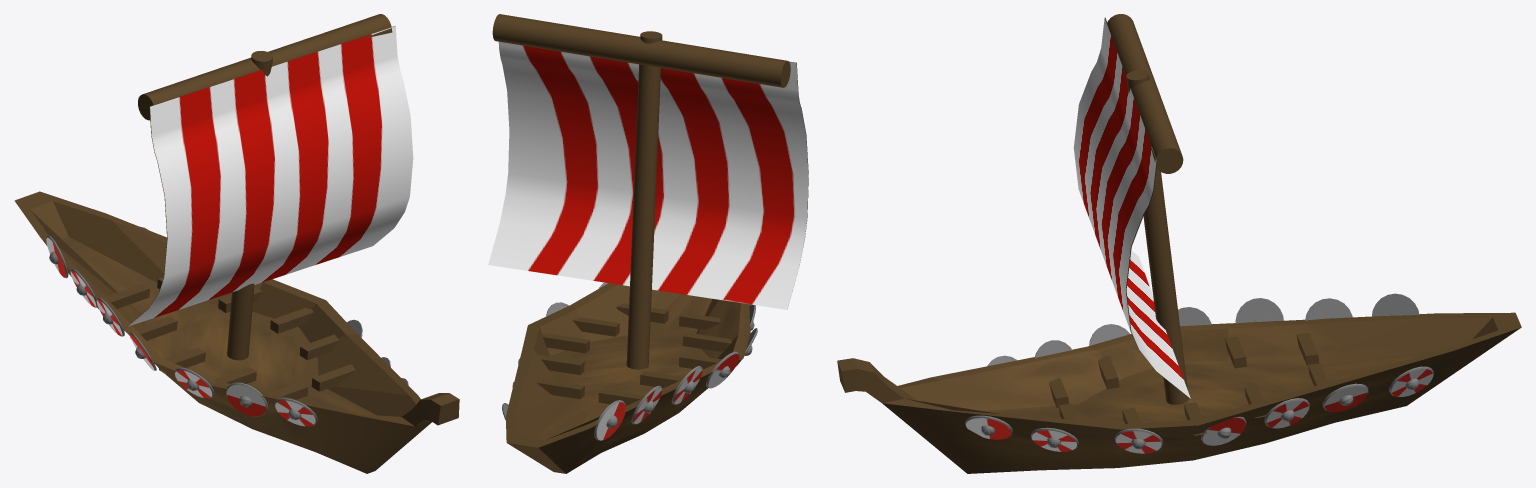
Rendered from boot.fbx.
3 views of the same model, side by side, from view 1: azimuth 30°, elevation 25°; view 2: azimuth 150°, elevation 25°; view 3: azimuth 270°, elevation 25° (orthographic). The views are drawn at different scales.
Visible parts, largest first — view 1: pSphere72; view 2: pSphere72; view 3: pSphere72.
Part boxes in pixels (x1=…): pSphere72: x1=14, y1=14, x2=459, y2=473; pSphere72: x1=488, y1=14, x2=808, y2=473; pSphere72: x1=837, y1=14, x2=1521, y2=473.
Size of the model in its own units: 30.09 by 37.41 by 60.55.
3 materials, 3 textured.
